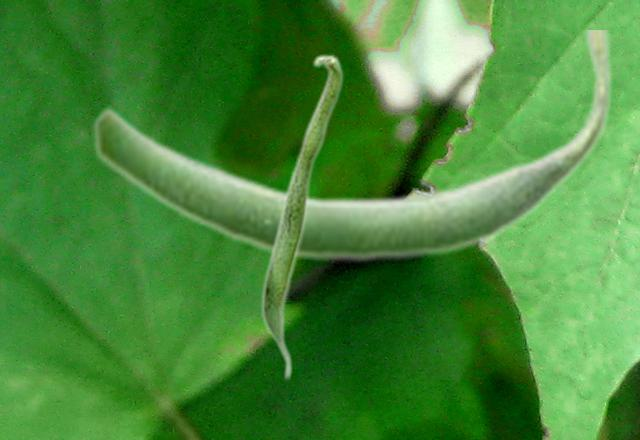french_bean: (91, 30, 613, 264), (260, 53, 343, 381)
